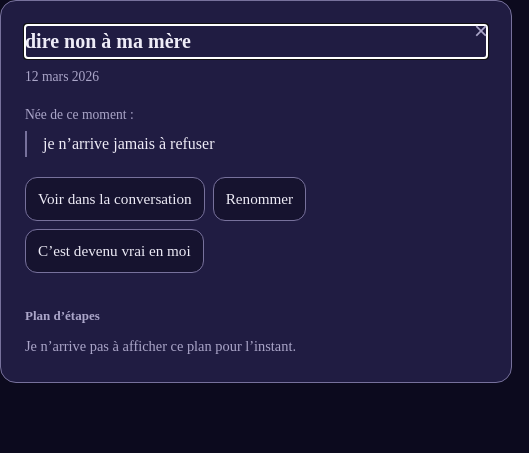
Test case: [AC3] le geste — explicite, confirmé, et jamais proposé pour rien › « Pas encore » referme sans rien écrire
Click the button "C’est devenu vrai en moi" at (114, 251), box [25,229,204,273]
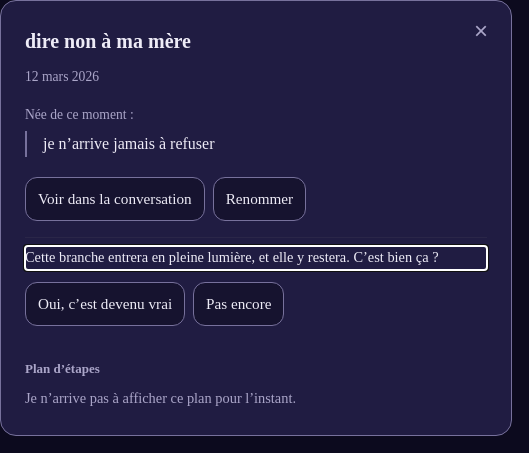
Click the button "Pas encore" at (239, 304), box [193,282,284,326]
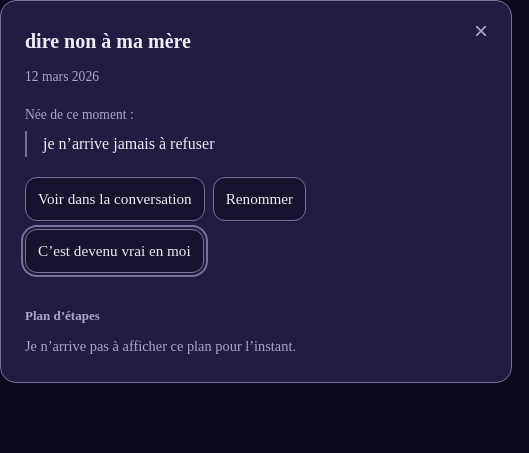
Now the text "elle y restera" is gone
